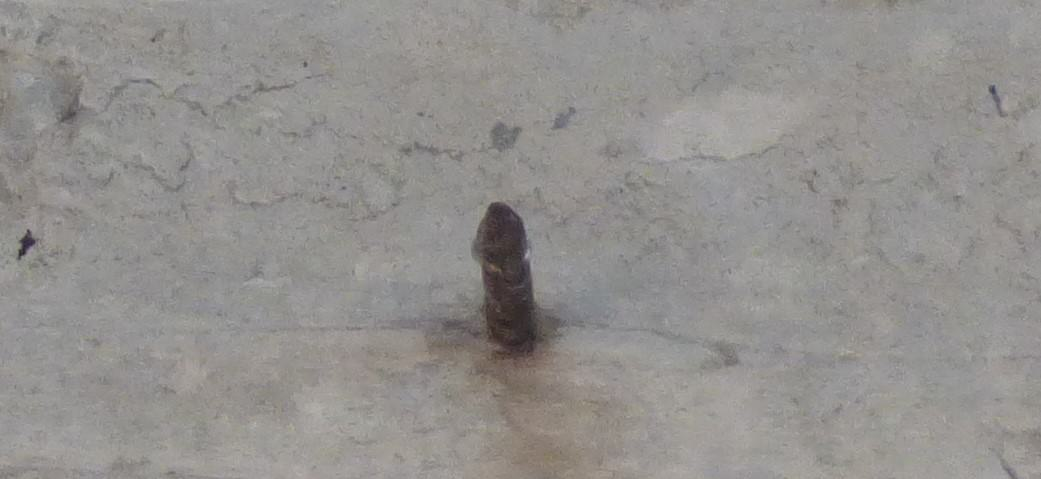Exposed reinforcement: (471, 201, 537, 346)
